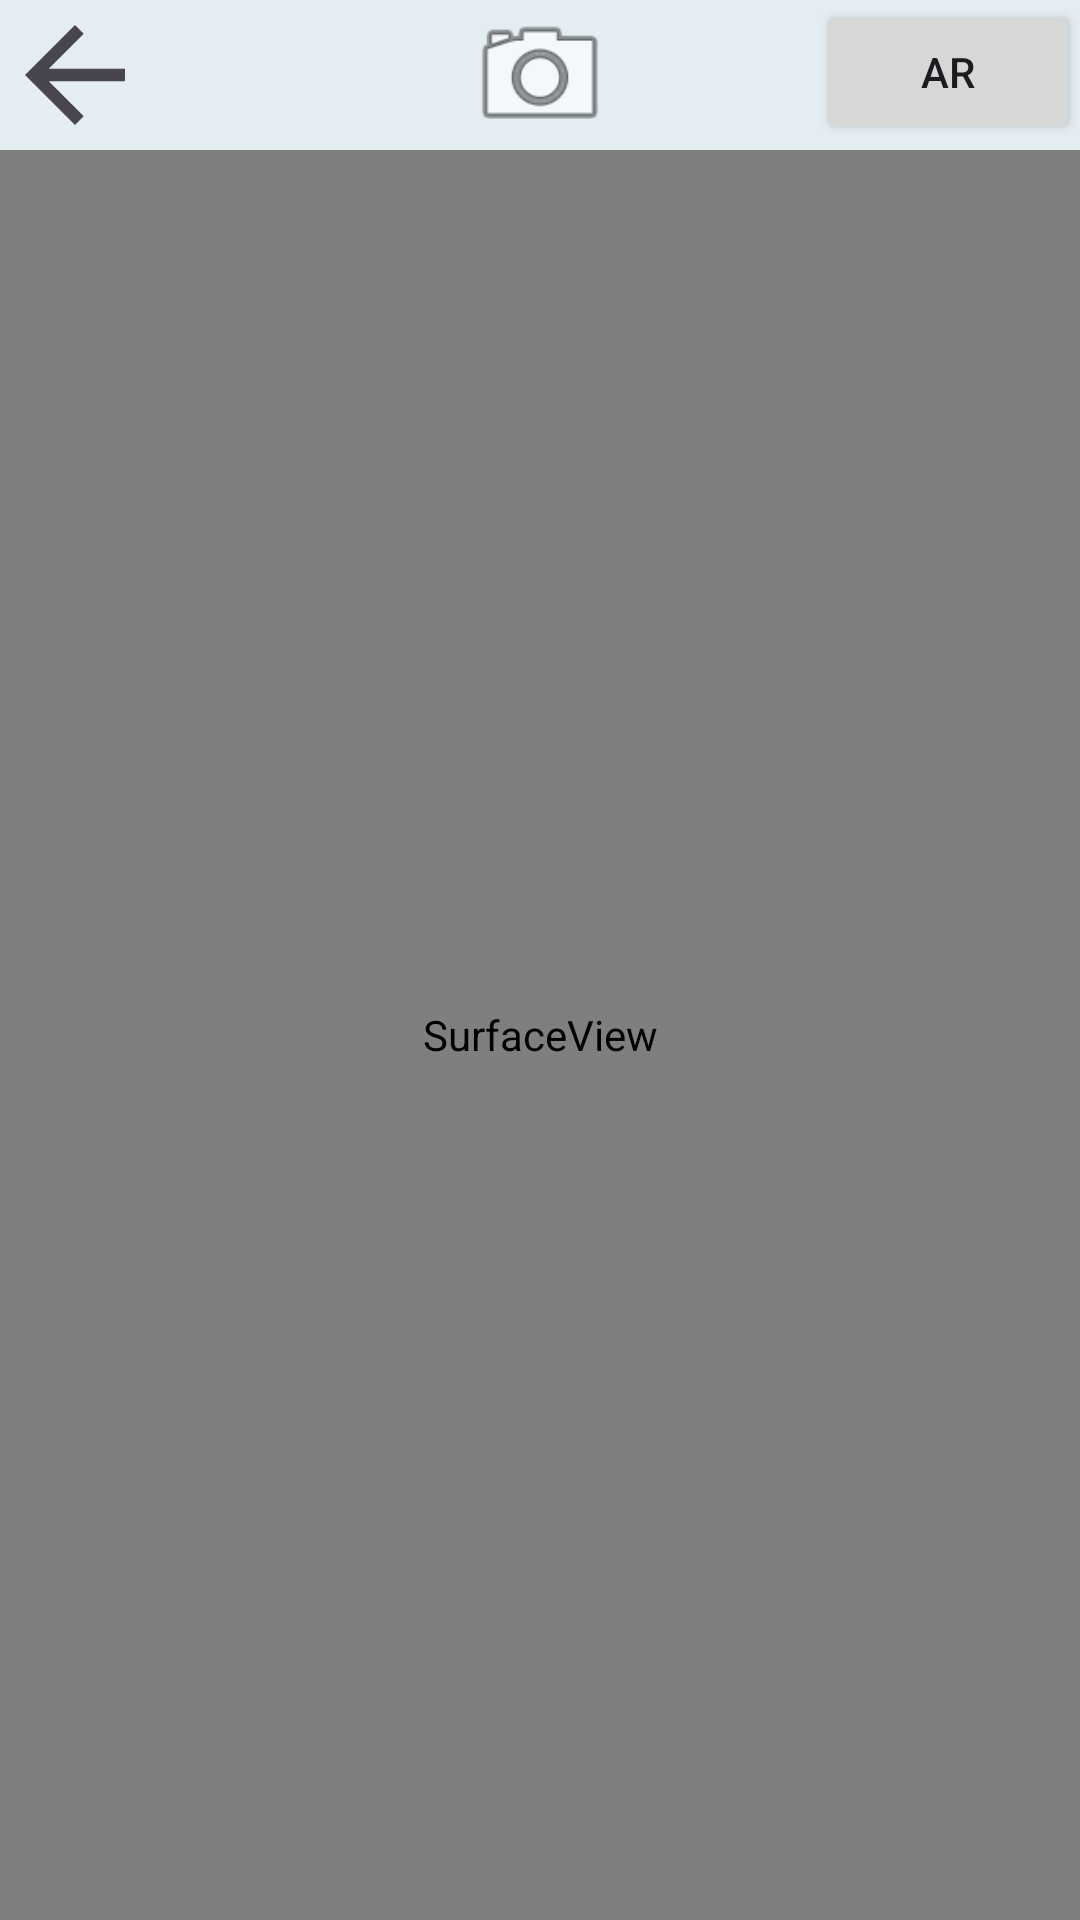

Icons on this 1080*1920 Android screen, each with the point to tap as (x,y):
camera: (540,72)
